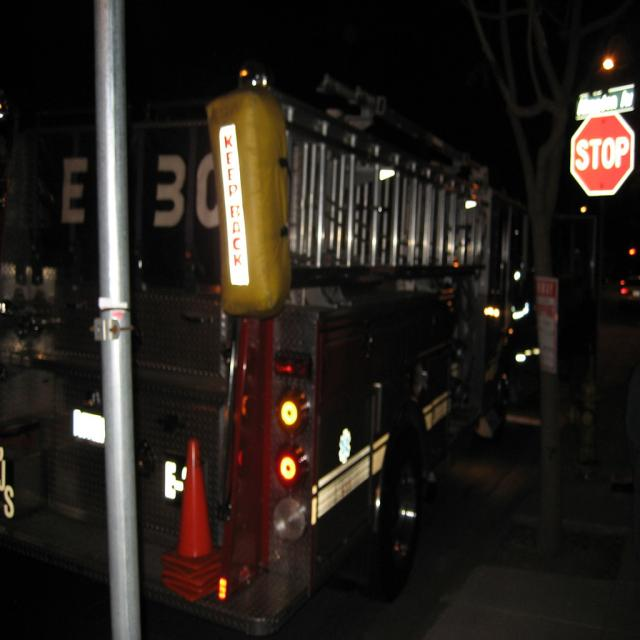Stop-sign: (569, 111, 636, 198)
